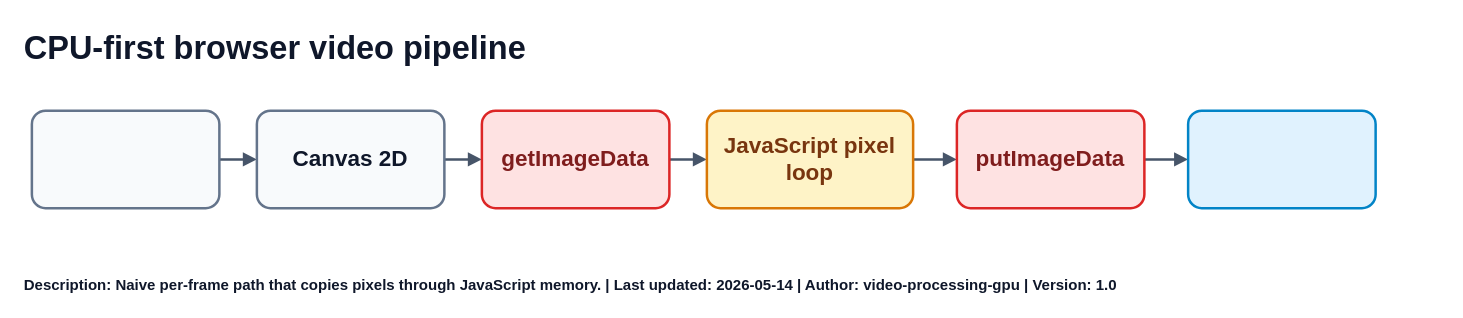
This 1463x318 diagram has some shape labels left out. The centre of each missing label's shape, as x and y in pixels:
"Preview canvas" belongs at (x=1281, y=159).
"Video element" belongs at (x=125, y=159).
